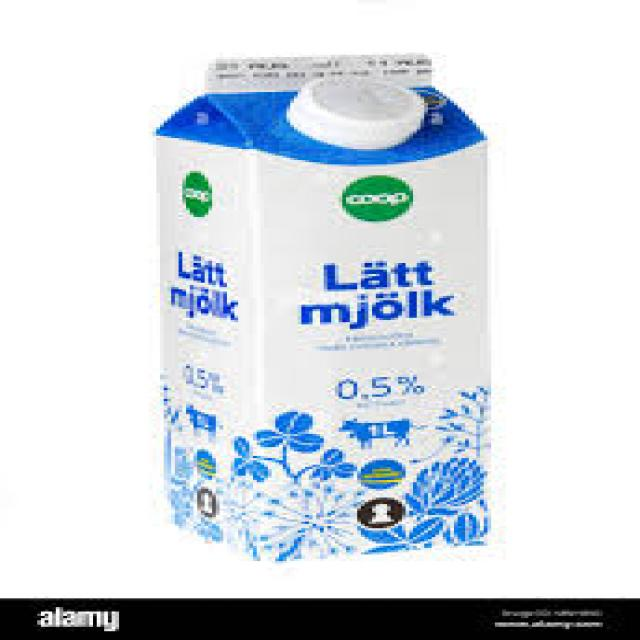non_white_jug: (118, 47, 516, 560)
